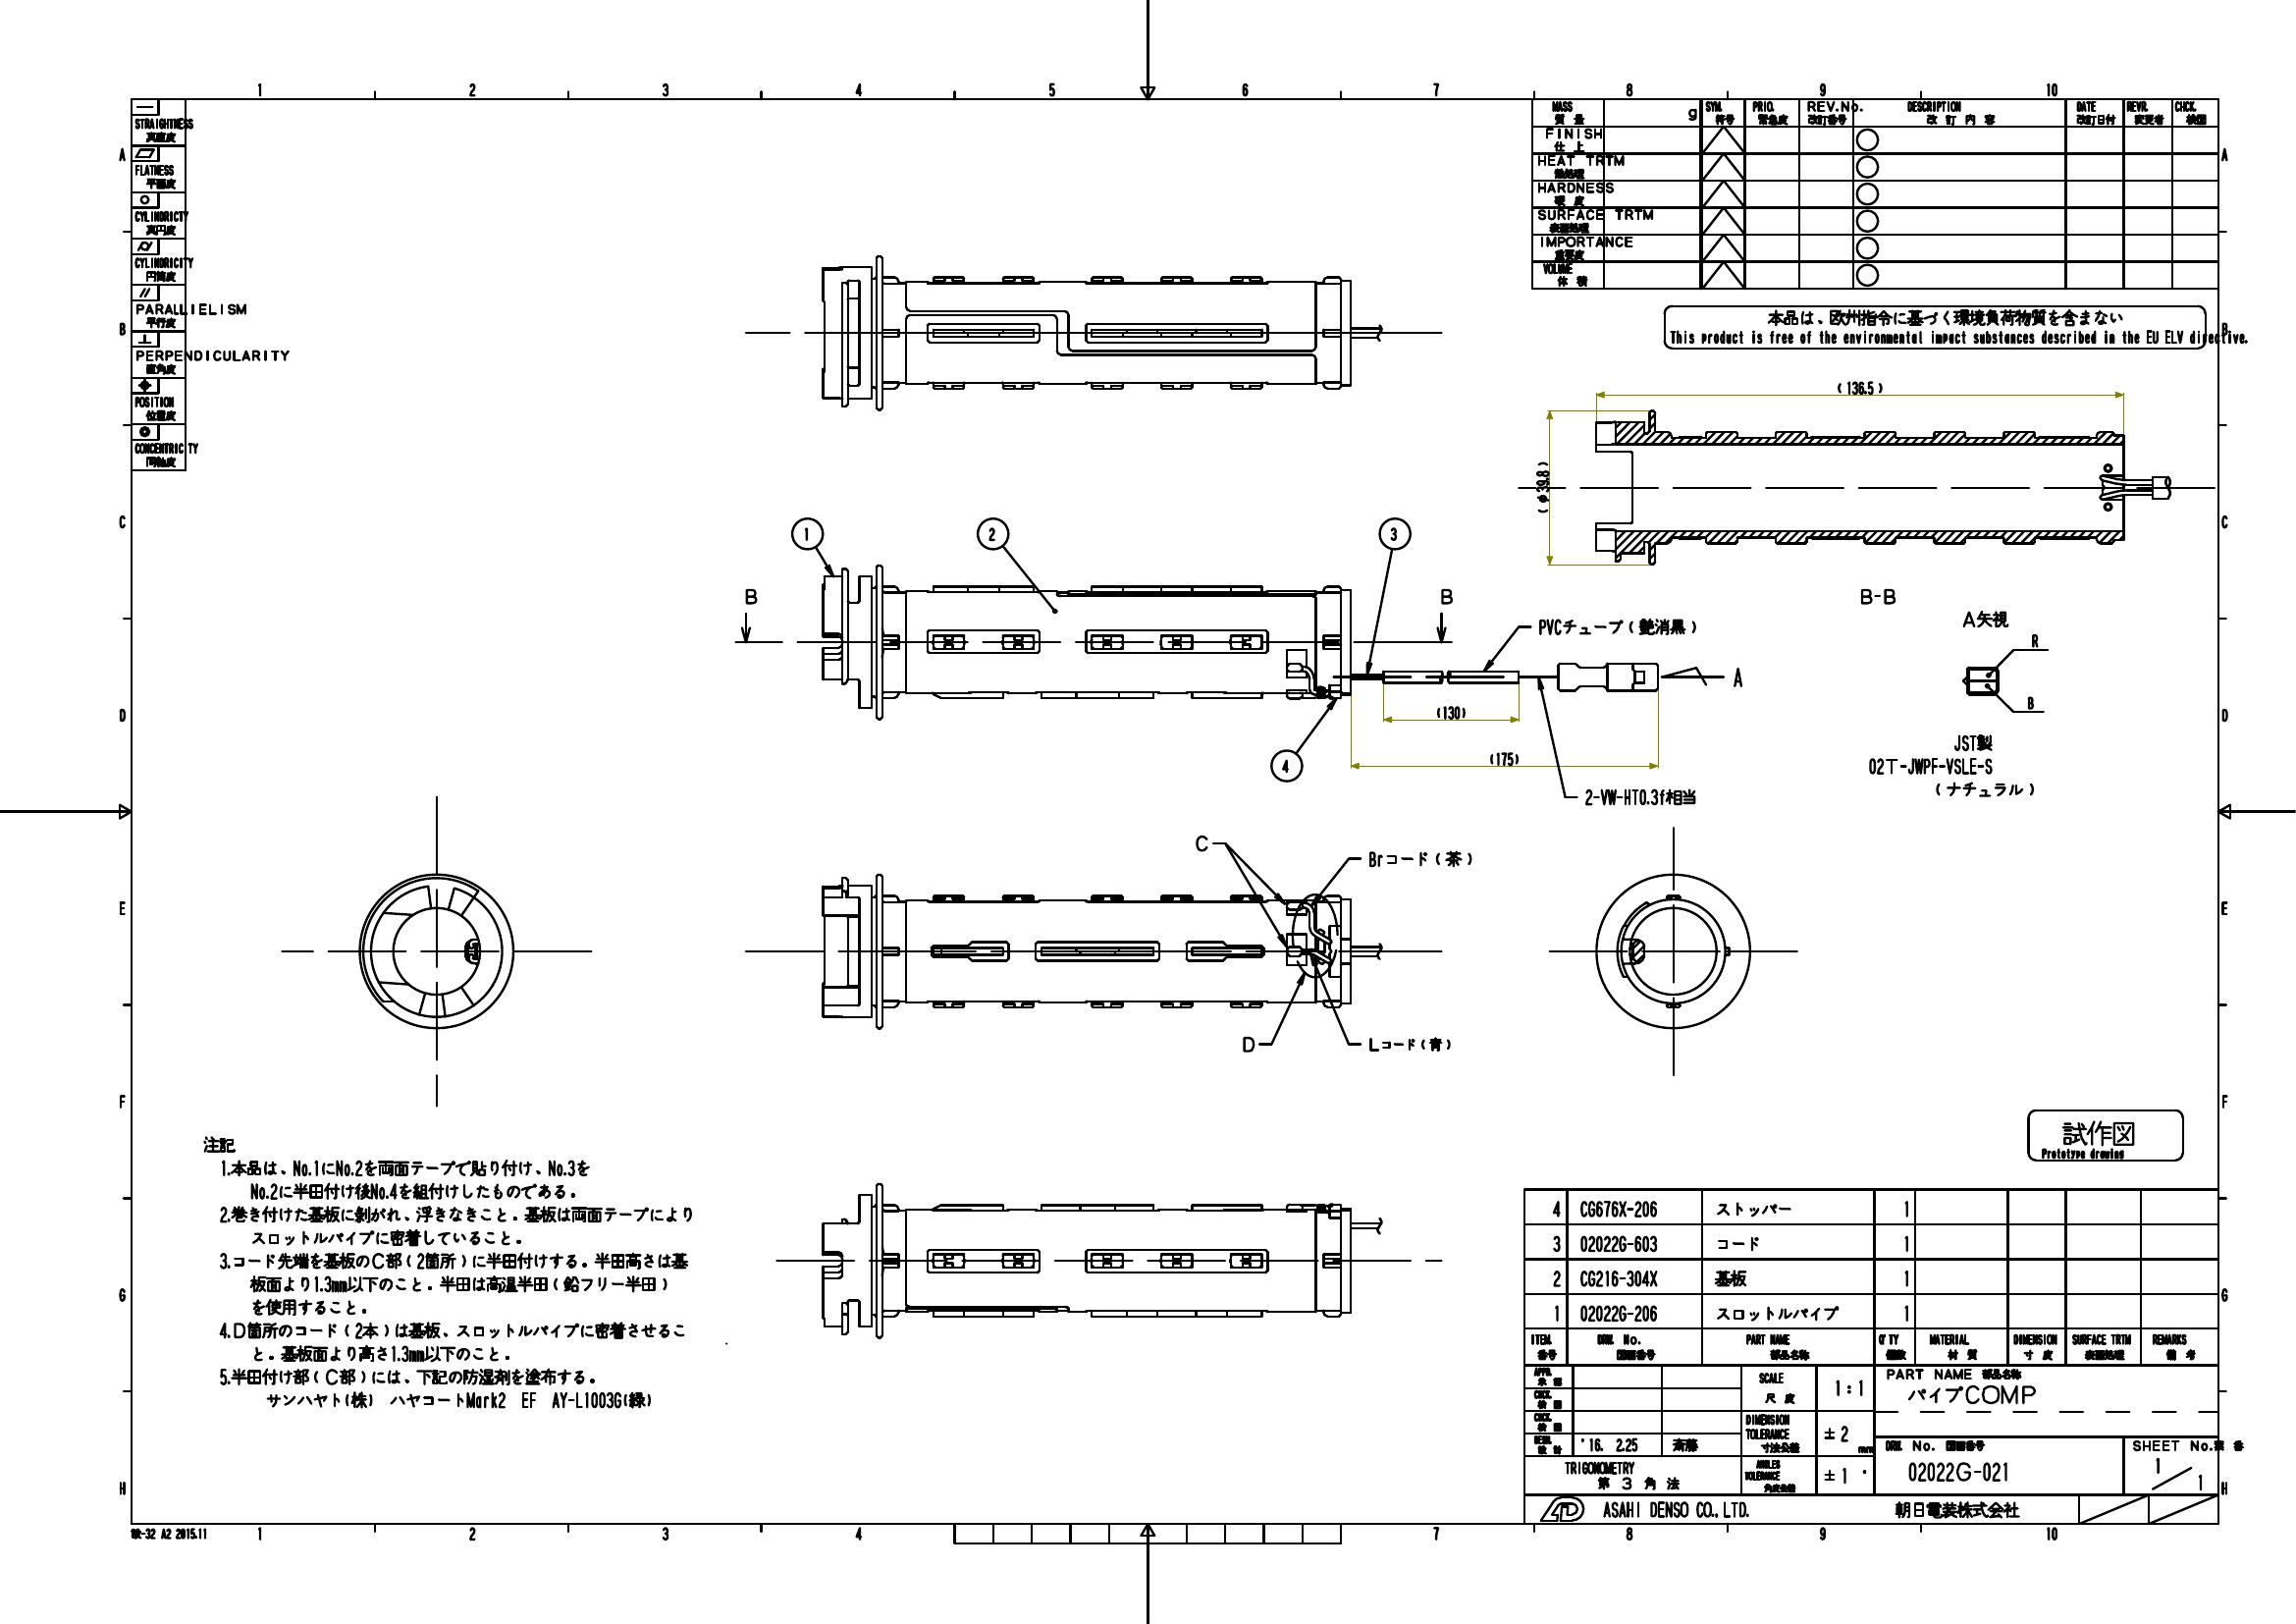anntotation_text: (202, 1128, 697, 1413), (1664, 306, 2208, 348), (1867, 731, 2048, 800), (2027, 1109, 2182, 1160), (1535, 613, 1700, 638), (1367, 849, 1474, 874), (1583, 786, 1702, 807), (1365, 1033, 1458, 1053), (1959, 605, 2010, 634), (130, 1526, 207, 1541), (792, 517, 822, 548), (1272, 750, 1302, 782), (977, 517, 1007, 548), (1379, 518, 1409, 548), (1855, 587, 1899, 605), (1188, 831, 1214, 856), (741, 582, 762, 605), (1437, 584, 1456, 608), (1237, 1032, 1258, 1053), (1730, 668, 1743, 689), (2024, 694, 2036, 710), (2027, 633, 2040, 649)
dimension_text: (1534, 455, 1548, 515), (1834, 380, 1883, 395), (1484, 750, 1518, 766), (1432, 705, 1467, 719)
object: (820, 564, 1658, 719), (820, 872, 1383, 1030), (820, 255, 1383, 411), (1595, 411, 2170, 564), (822, 1183, 1383, 1339), (1599, 874, 1751, 1028), (360, 874, 513, 1028), (1960, 666, 1997, 696)
title_block: (1523, 1190, 2219, 1526), (1530, 95, 2217, 288), (130, 97, 186, 471)
